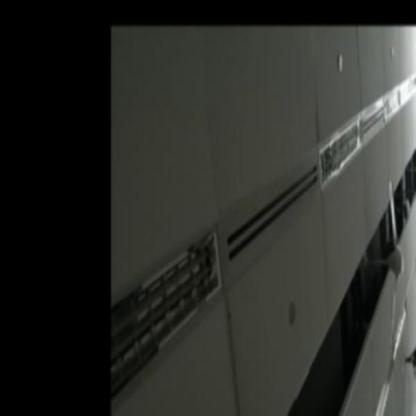light_off: (112, 209, 224, 400), (308, 107, 371, 190)
